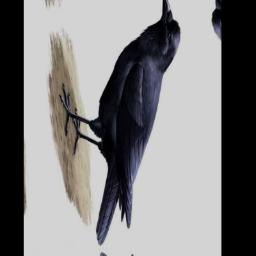Crow: (48, 0, 205, 252)
